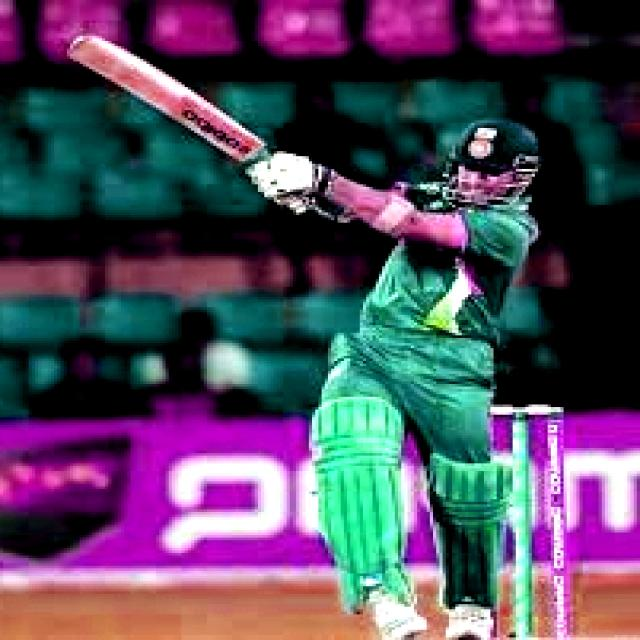toe: (62, 31, 131, 82)
